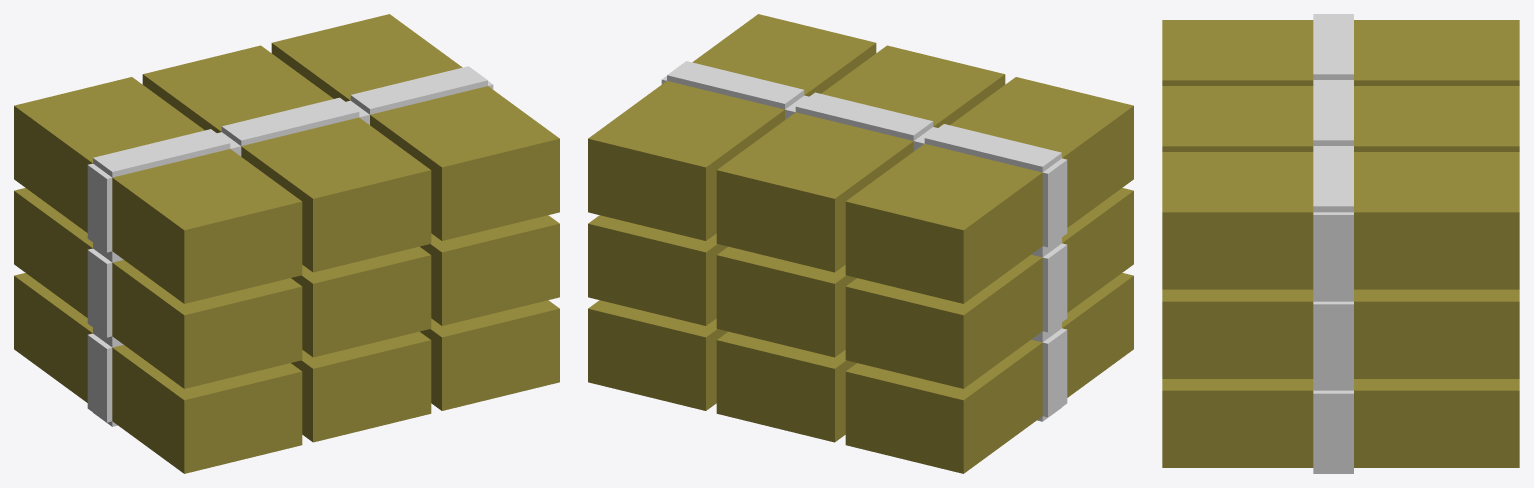
The model's file is goldstack.fbx.
3 views of the same model, side by side, from view 1: azimuth 30°, elevation 25°; view 2: azimuth 150°, elevation 25°; view 3: azimuth 270°, elevation 25° (orthographic). The views are drawn at different scales.
Parts seen in each view (by area): view 1: Gold 3, Gold 2, Gold 1, Gold 6, Gold 9, Gold 5, Gold 8, Gold 4, Gold 7; view 2: Gold 3, Gold 2, Gold 1, Gold 9, Gold 6, Gold 5, Gold 8, Gold 4, Gold 7; view 3: Gold 1, Gold 4, Gold 7, Gold 2, Gold 3.
Part boxes in pixels (x1,y1,x2,y2): Gold 3: (14, 77, 302, 303); Gold 2: (142, 45, 431, 272); Gold 1: (271, 14, 559, 240); Gold 6: (14, 188, 302, 388); Gold 9: (14, 273, 302, 473); Gold 5: (291, 246, 431, 357); Gold 8: (291, 331, 431, 442); Gold 4: (420, 215, 559, 325); Gold 7: (420, 300, 559, 410); Gold 3: (845, 77, 1133, 303); Gold 2: (716, 45, 1005, 272); Gold 1: (588, 14, 876, 240); Gold 9: (845, 273, 1133, 473); Gold 6: (845, 188, 1133, 388); Gold 5: (716, 246, 856, 357); Gold 8: (716, 331, 856, 442); Gold 4: (588, 215, 727, 325); Gold 7: (588, 300, 727, 410); Gold 1: (1162, 146, 1519, 295); Gold 4: (1162, 289, 1519, 384); Gold 7: (1162, 379, 1519, 473); Gold 2: (1162, 80, 1519, 151); Gold 3: (1162, 14, 1519, 85).
Bounding box in the file's own units: 78.6 × 49.55 × 60.
